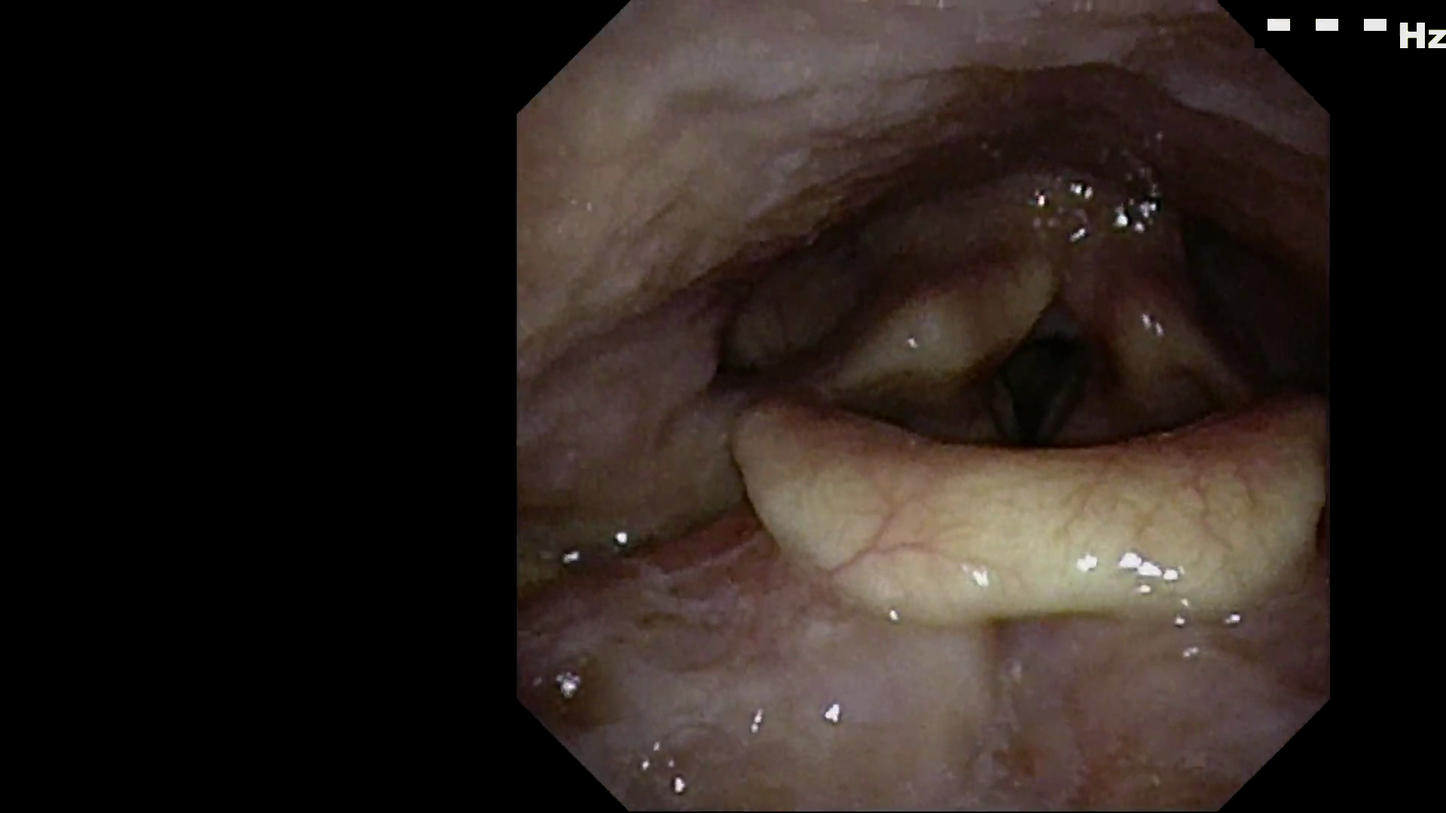epiglottis: (702, 378, 1333, 638)
trachea: (944, 305, 1112, 501)
